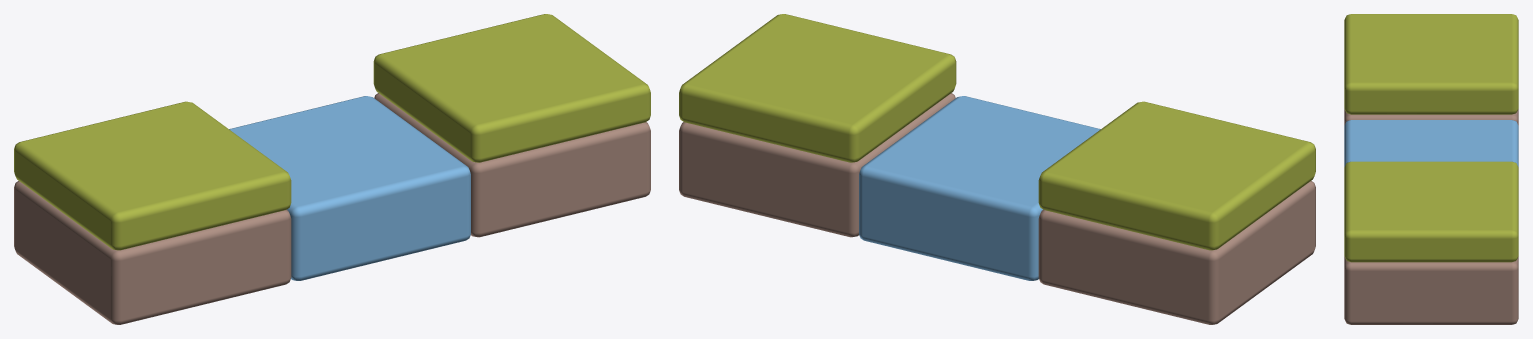
Rendered from cube_with_river.05.glb.
3 renders of one model, left to right at view 1: azimuth 30°, elevation 25°; view 2: azimuth 150°, elevation 25°; view 3: azimuth 270°, elevation 25°, orthographic. The views are drawn at different scales.
Parts seen in each view (by area): view 1: Cube.250; view 2: Cube.250; view 3: Cube.250.
Part boxes in pixels (x1,y1,x2,y2): Cube.250: (14, 14, 650, 324); Cube.250: (679, 14, 1315, 324); Cube.250: (1344, 14, 1518, 324).
Size of the model in its own units: 3 by 0.6001 by 1.
1 material, 1 textured.
